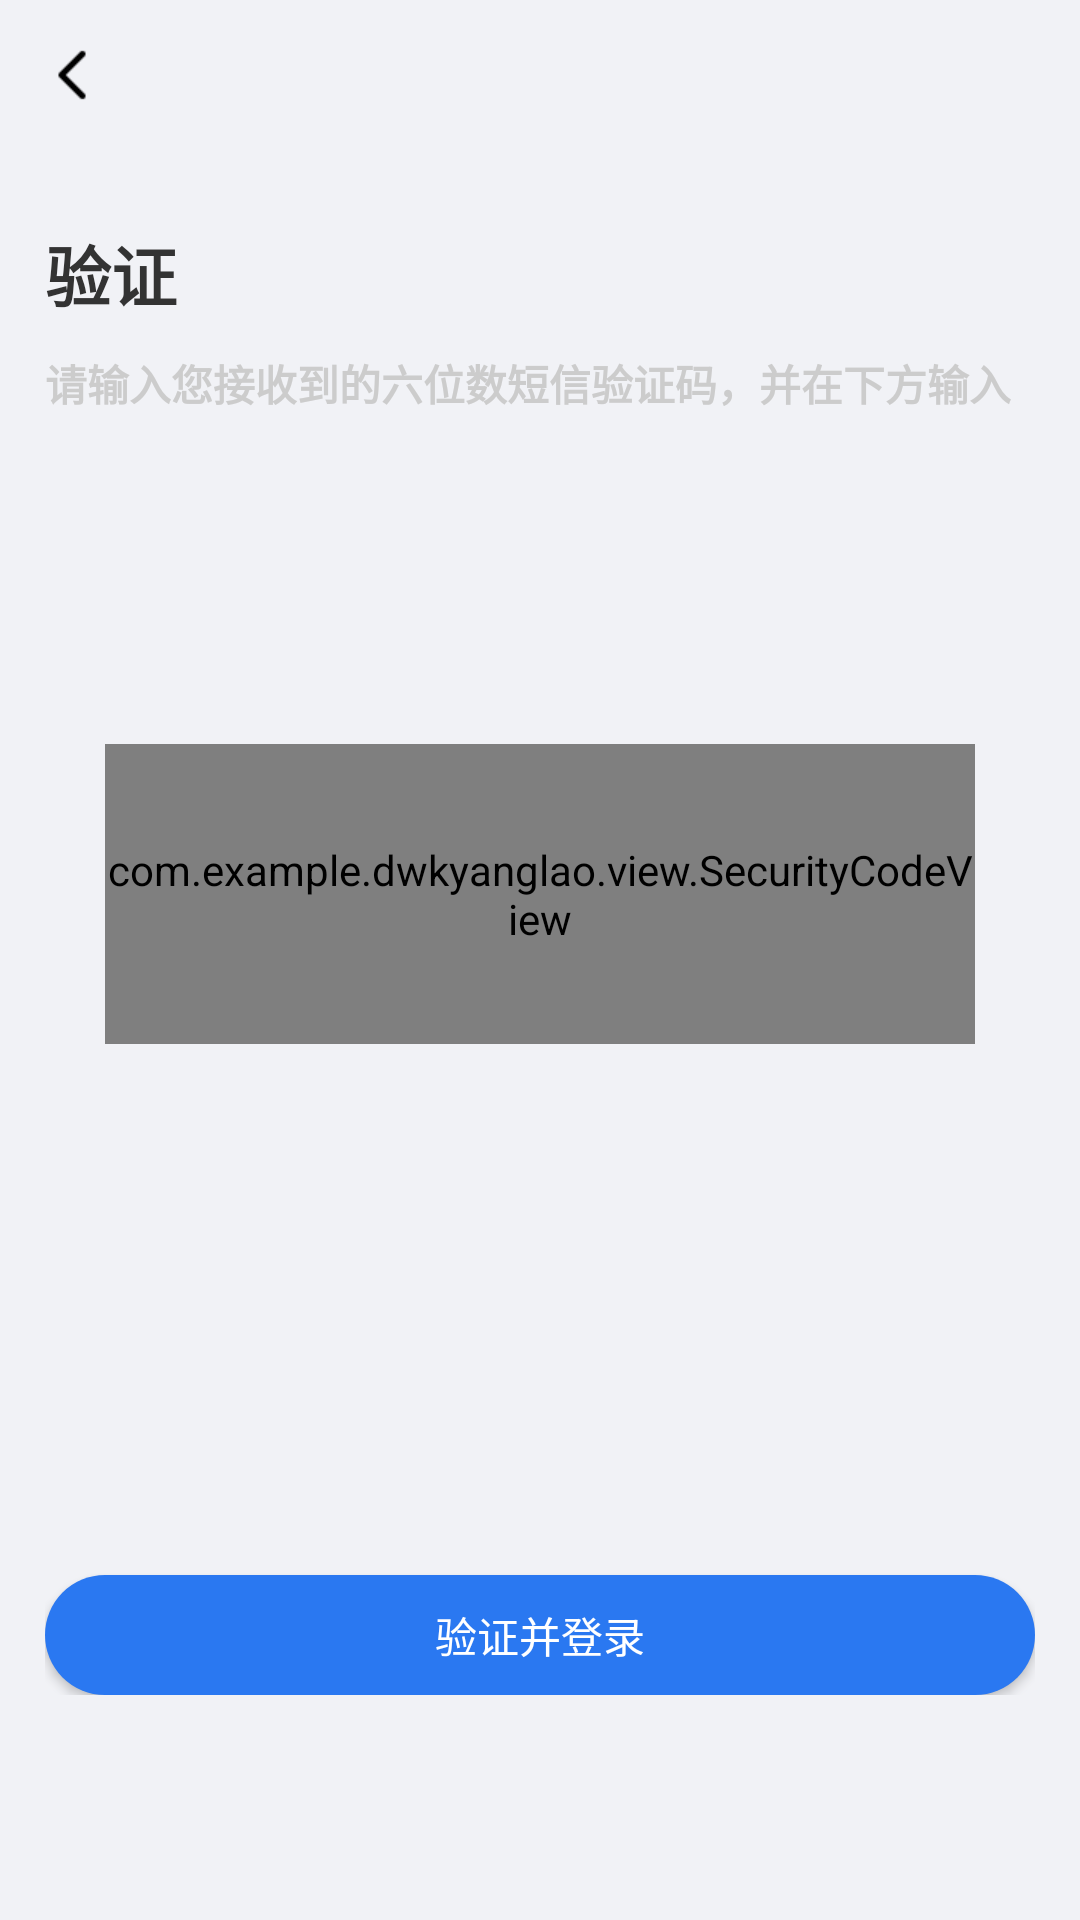

Where icons sit on this 1080x1920 app screen, as (x1, y1, x2, y2):
back: (58, 50, 86, 100)
